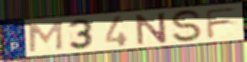3: (66, 17, 97, 51)
4: (104, 14, 130, 48)
F: (203, 6, 239, 41)
M: (27, 20, 65, 53)
N: (134, 11, 169, 47)
S: (169, 9, 205, 44)
